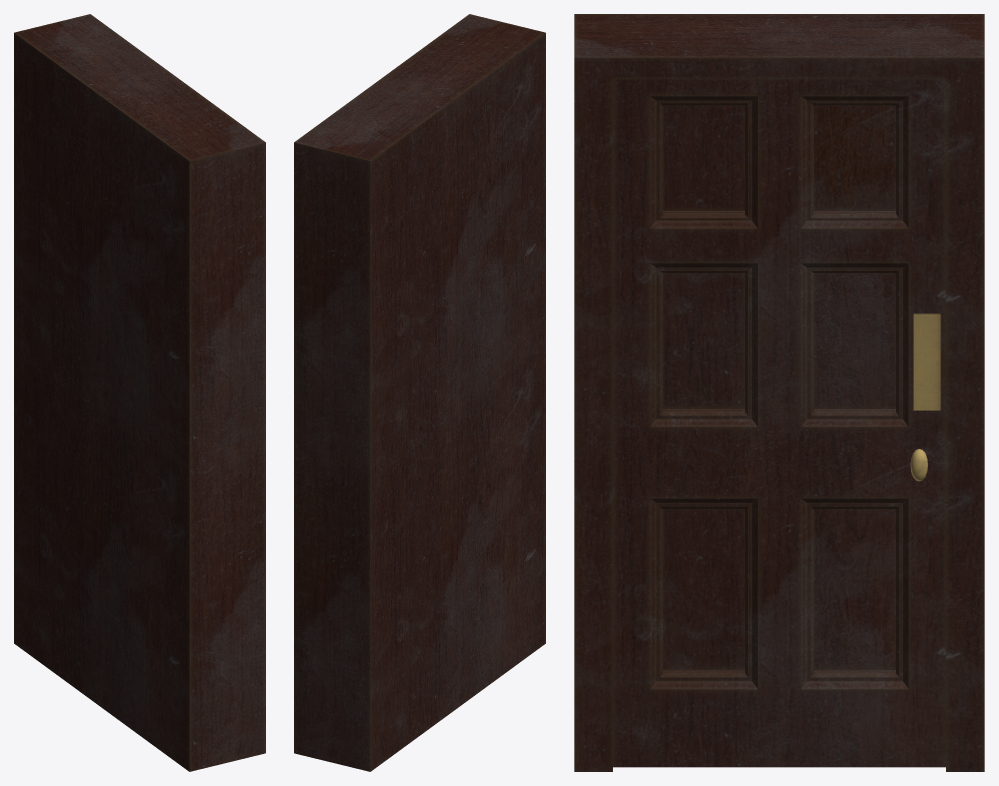
The model's file is wooden_door.glb.
The picture shows the model from 3 angles, left to right: view 1: azimuth 30°, elevation 25°; view 2: azimuth 150°, elevation 25°; view 3: azimuth 270°, elevation 25°; orthographic projection. The views are drawn at different scales.
Parts seen in each view (by area): view 1: SM_door_68; view 2: SM_door_68; view 3: SM_door_68.
Part boxes in pixels (box(x1,y1,x2,y2)): SM_door_68: box(14, 14, 265, 771); SM_door_68: box(294, 14, 545, 771); SM_door_68: box(574, 14, 984, 771).
Size of the model in its own units: 0.432 by 2.85 by 1.48.
1 material, 1 textured.
